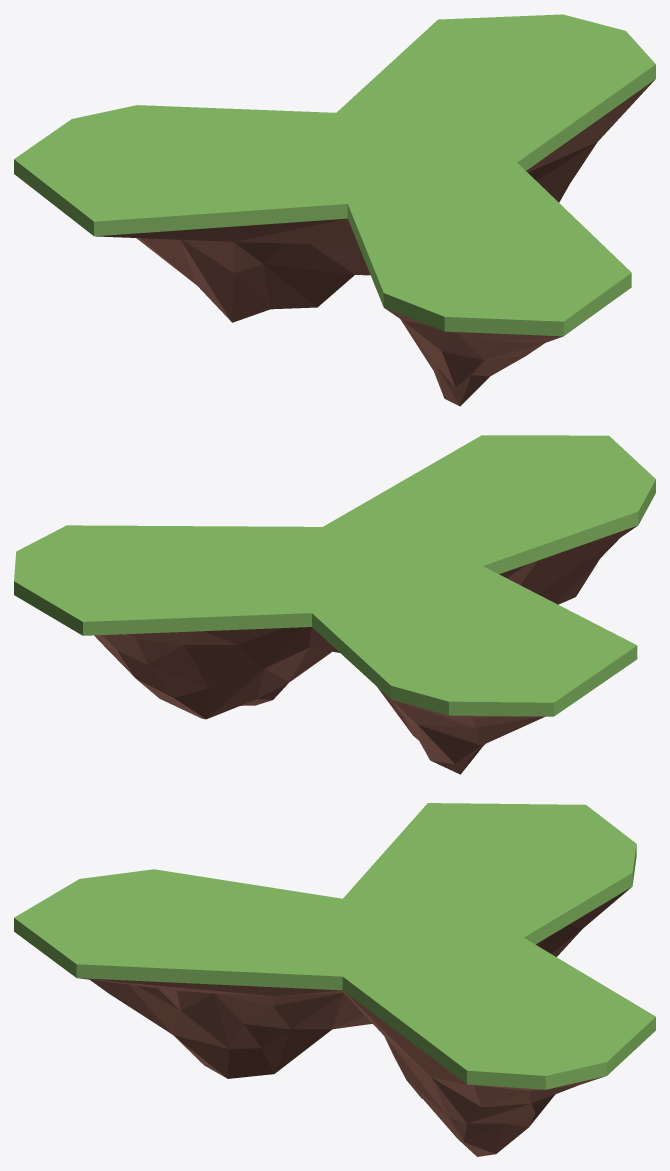
Rendered from Island18.fbx.
The picture shows the model from 3 angles, top to bottom: view 1: azimuth 30°, elevation 25°; view 2: azimuth 150°, elevation 25°; view 3: azimuth 270°, elevation 25°; orthographic projection. The views are drawn at different scales.
Visible parts, largest first — view 1: Island18; view 2: Island18; view 3: Island18.
Part boxes in pixels (left/top/right/bottom): Island18: left=14, top=14, right=655, bottom=406; Island18: left=14, top=435, right=655, bottom=774; Island18: left=14, top=803, right=655, bottom=1156.
Size of the model in its own units: 7.46 by 1.97 by 7.41.
